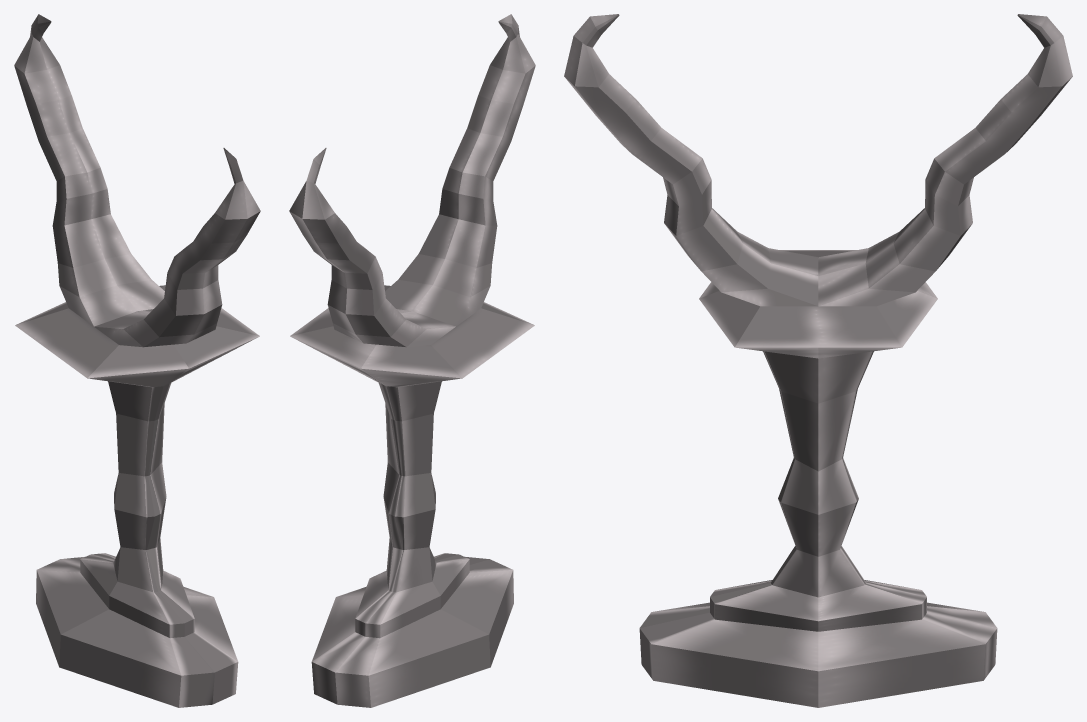
File: Eras_Switch.fbx
3 renders of one model, left to right at view 1: azimuth 30°, elevation 25°; view 2: azimuth 150°, elevation 25°; view 3: azimuth 270°, elevation 25°, orthographic. The views are drawn at different scales.
Visible parts, largest first — view 1: Cube; view 2: Cube; view 3: Cube.
Boxes of the visible parts, <box> form: Cube: <box>14,14,260,707</box>; Cube: <box>289,14,535,707</box>; Cube: <box>564,14,1072,707</box>.
Bounding box in the file's own units: 1.55 × 4.82 × 3.41.
